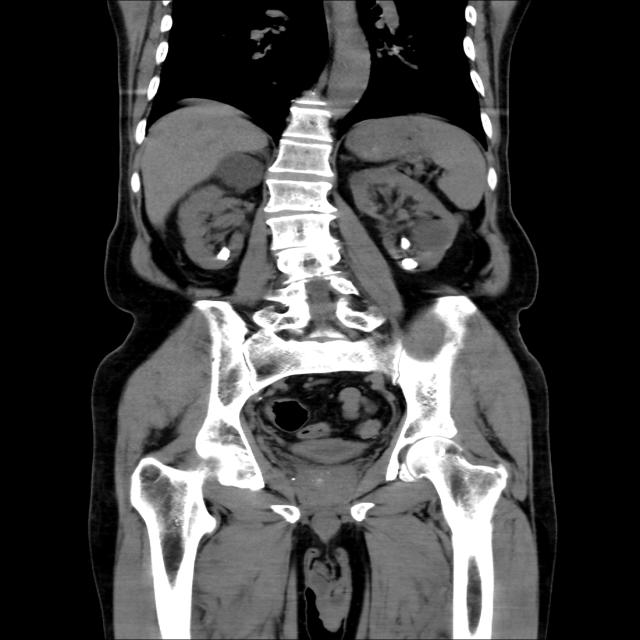kidneystone: (217, 246, 231, 261), (401, 258, 418, 270), (400, 236, 410, 249)
